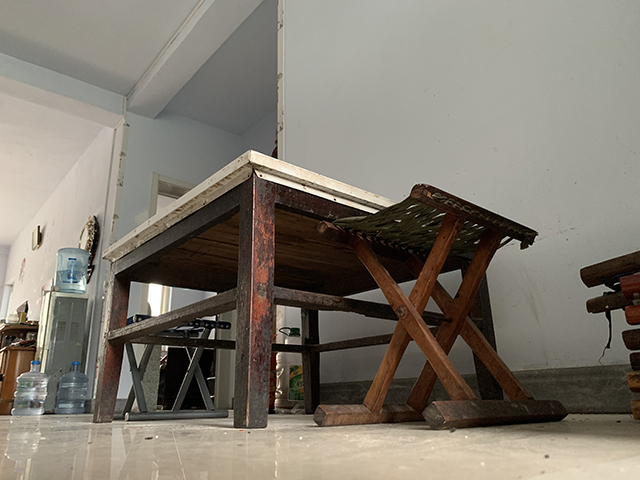stool: (311, 183, 569, 429), (115, 314, 230, 422)
table: (89, 149, 509, 431)
